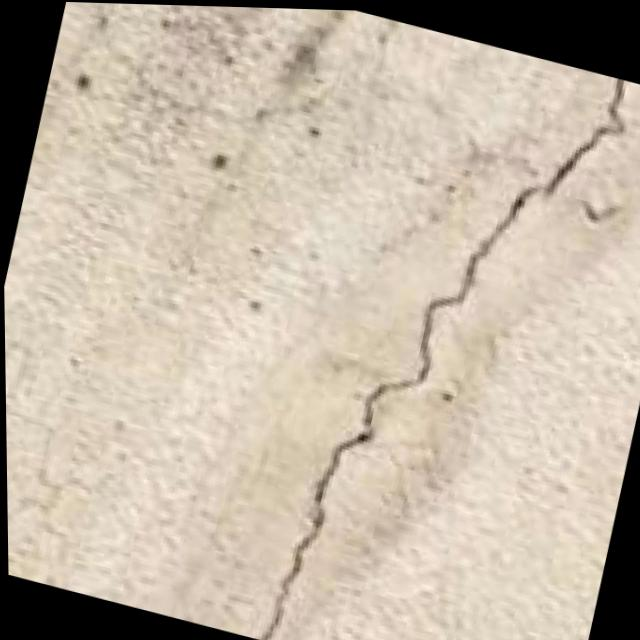Crack: (240, 12, 640, 640)
